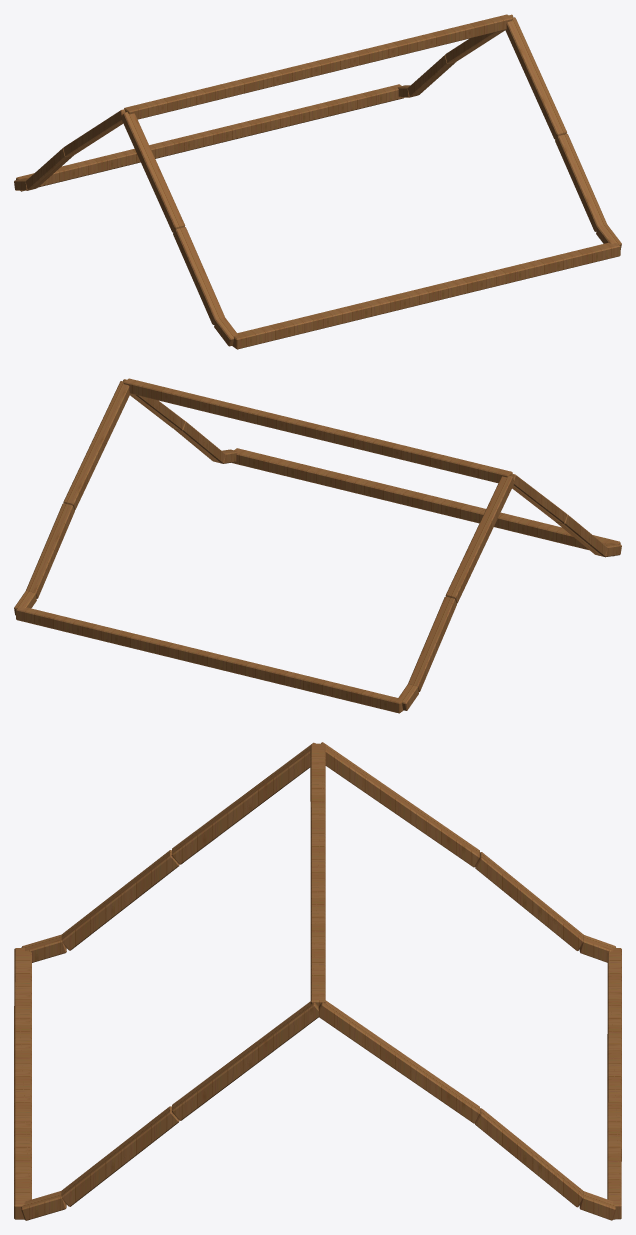
File: SM_HH_Q3_Roof_Trim.fbx
The picture shows the model from 3 angles, top to bottom: view 1: azimuth 30°, elevation 25°; view 2: azimuth 150°, elevation 25°; view 3: azimuth 270°, elevation 25°; orthographic projection. The views are drawn at different scales.
Visible parts, largest first — view 1: HH_Q3_Roof_Trim; view 2: HH_Q3_Roof_Trim; view 3: HH_Q3_Roof_Trim.
Part boxes in pixels (box(x1,y1,x2,y2)): HH_Q3_Roof_Trim: box(14, 14, 621, 349); HH_Q3_Roof_Trim: box(14, 378, 621, 713); HH_Q3_Roof_Trim: box(14, 742, 621, 1220).
Bounding box in the file's own units: 9.97 × 10.21 × 3.97.
